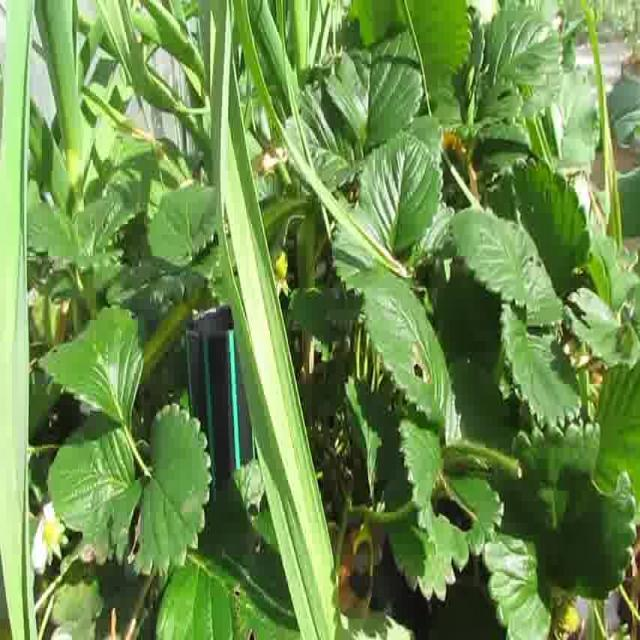Fruta sana: (552, 593, 582, 633), (271, 246, 288, 282), (42, 523, 58, 546)
